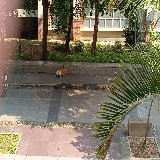fire: (59, 68, 68, 74)
